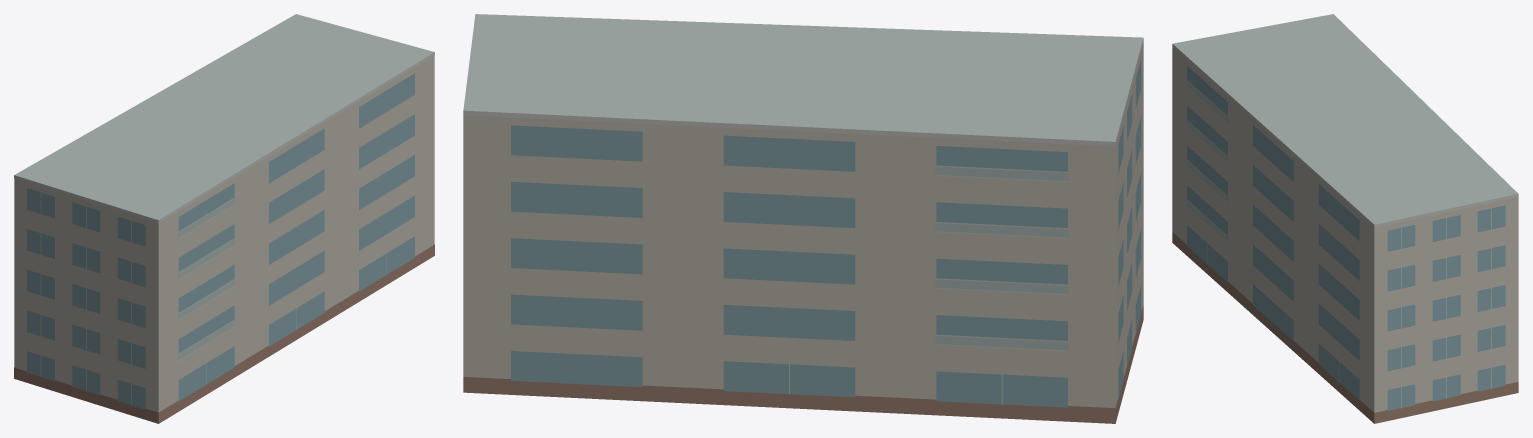
File: residential-690d3302-ff85-4612-a219-585e44571756.glb
The picture shows the model from 3 angles, left to right: view 1: azimuth 30°, elevation 25°; view 2: azimuth 150°, elevation 25°; view 3: azimuth 270°, elevation 25°; orthographic projection. The views are drawn at different scales.
Parts seen in each view (by area): view 1: residential-690d3302-ff85-4612-a219-585e44571756.tmp; view 2: residential-690d3302-ff85-4612-a219-585e44571756.tmp; view 3: residential-690d3302-ff85-4612-a219-585e44571756.tmp.
Part boxes in pixels (left/top/right/bottom): residential-690d3302-ff85-4612-a219-585e44571756.tmp: left=14, top=14, right=434, bottom=423; residential-690d3302-ff85-4612-a219-585e44571756.tmp: left=463, top=14, right=1143, bottom=423; residential-690d3302-ff85-4612-a219-585e44571756.tmp: left=1172, top=14, right=1518, bottom=423.
Size of the model in its own units: 34.61 by 15.25 by 24.02.
